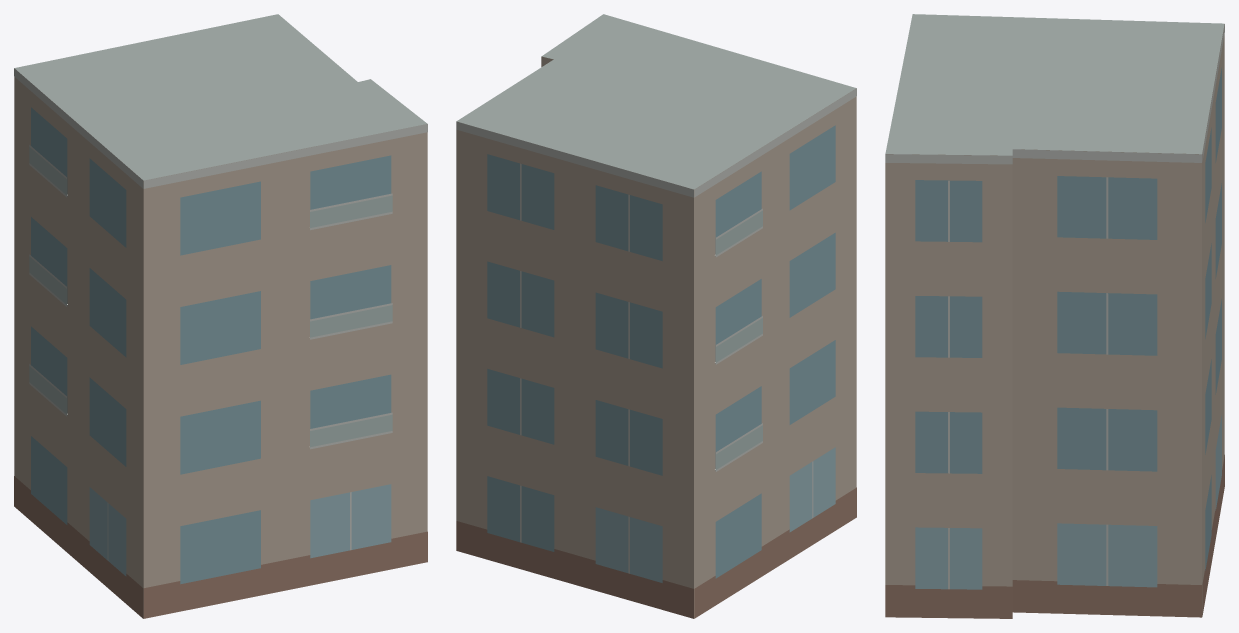
The model's file is survey-upis-32896866.glb.
The picture shows the model from 3 angles, left to right: view 1: azimuth 30°, elevation 25°; view 2: azimuth 150°, elevation 25°; view 3: azimuth 270°, elevation 25°; orthographic projection. The views are drawn at different scales.
Parts seen in each view (by area): view 1: survey-upis-32896866.tmp; view 2: survey-upis-32896866.tmp; view 3: survey-upis-32896866.tmp.
Part boxes in pixels (x1=…): survey-upis-32896866.tmp: x1=14, y1=14, x2=427, y2=618; survey-upis-32896866.tmp: x1=456, y1=14, x2=856, y2=618; survey-upis-32896866.tmp: x1=885, y1=14, x2=1224, y2=618.
Bounding box in the file's own units: 8.4 × 12.79 × 8.5.
